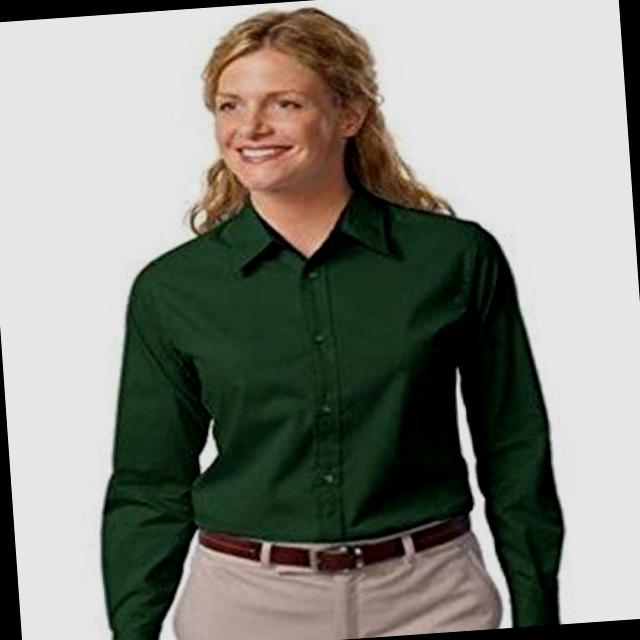shirt: (78, 173, 570, 640)
